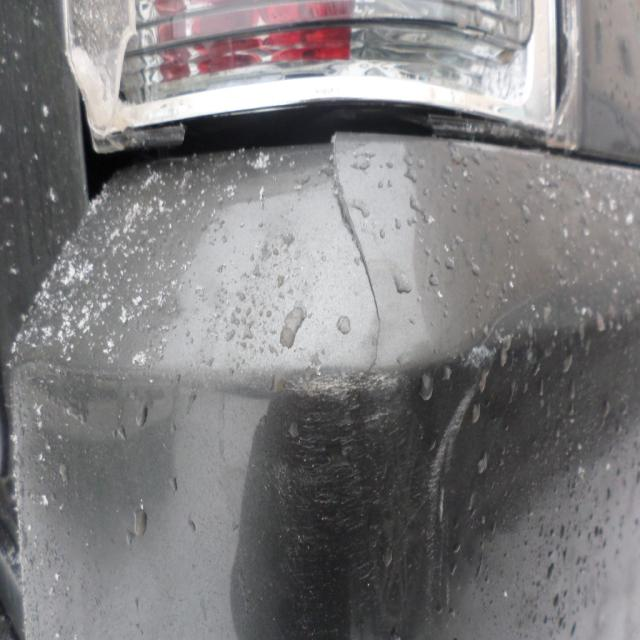Cabossage: (257, 377, 640, 640), (30, 364, 165, 609)
Dechirure: (318, 138, 387, 349)
Phare abime: (93, 0, 567, 162)
Rayure: (286, 365, 487, 612), (483, 289, 563, 351)
